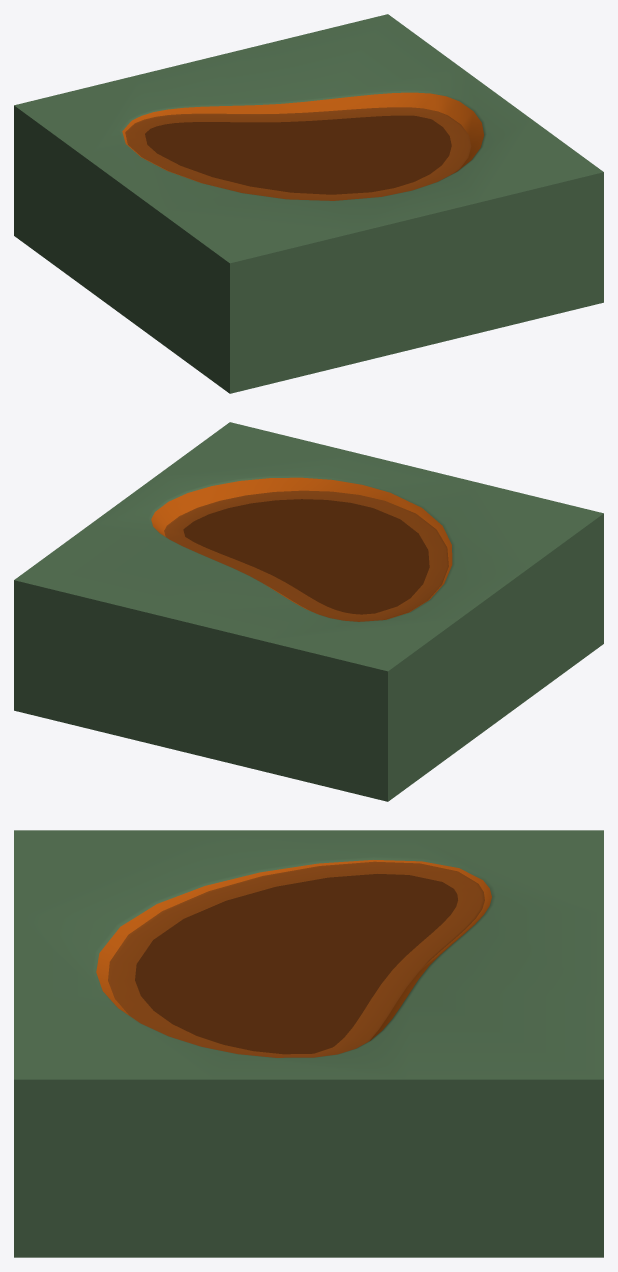
Rendered from mud-pile-slanted.glb.
3 views of the same model, one above another, from view 1: azimuth 30°, elevation 25°; view 2: azimuth 150°, elevation 25°; view 3: azimuth 270°, elevation 25° (orthographic). The views are drawn at different scales.
Parts seen in each view (by area): view 1: Cube.004; view 2: Cube.004; view 3: Cube.004.
Part boxes in pixels (left/top/right/bottom): Cube.004: left=14, top=14, right=603, bottom=393; Cube.004: left=14, top=422, right=603, bottom=801; Cube.004: left=14, top=830, right=603, bottom=1257.
Size of the model in its own units: 3 by 1 by 3.
